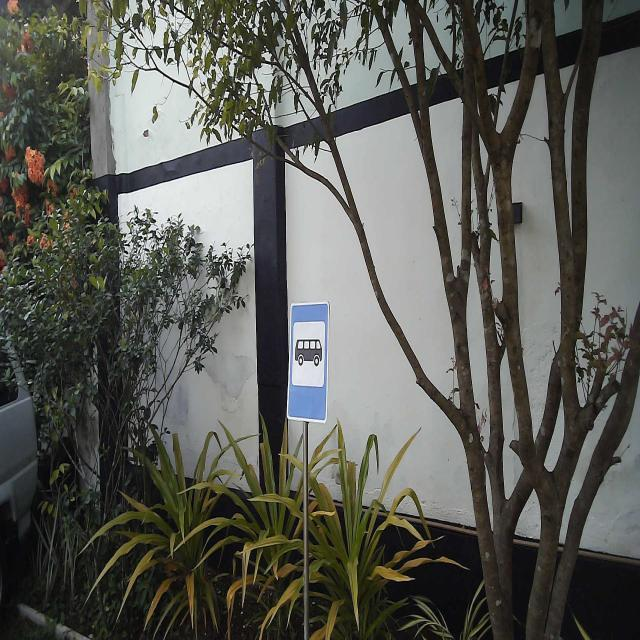bus_stop: (285, 300, 331, 425)
